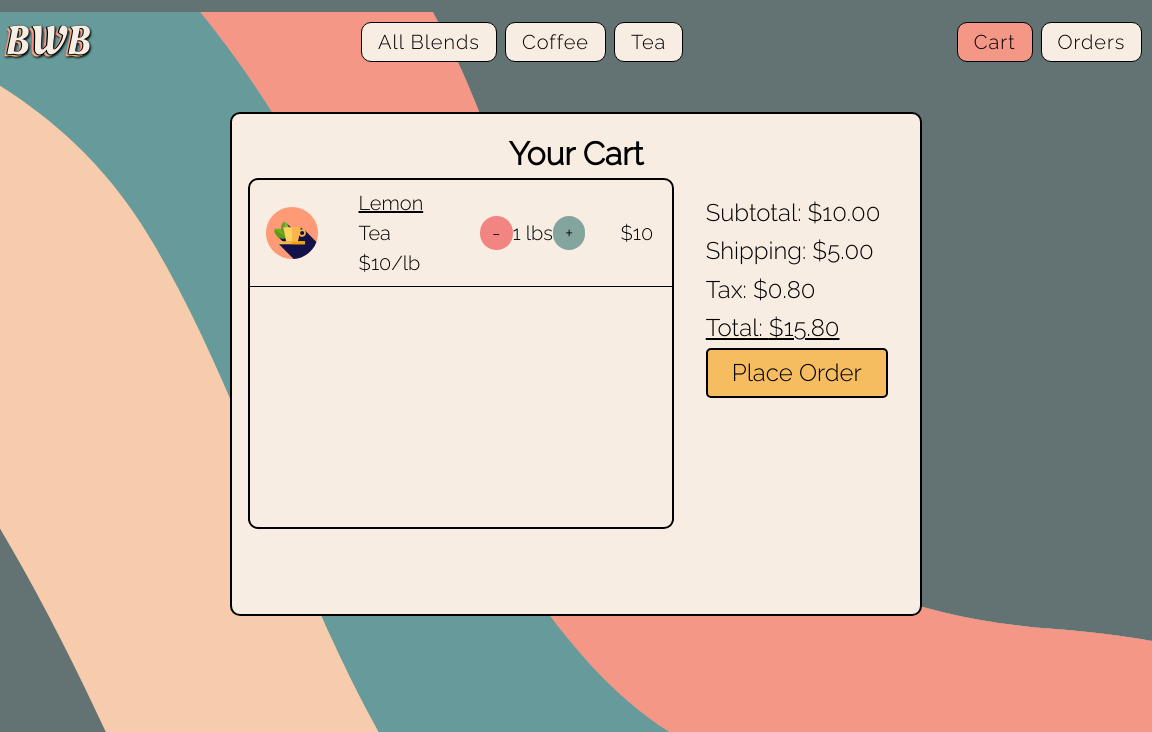
Test: Cart › should provide free shipping for orders over $20
This screenshot has width=1152, height=732.
Click the button with class "cart-counter--increase-btn" at (569, 233), box [553,216,585,249]
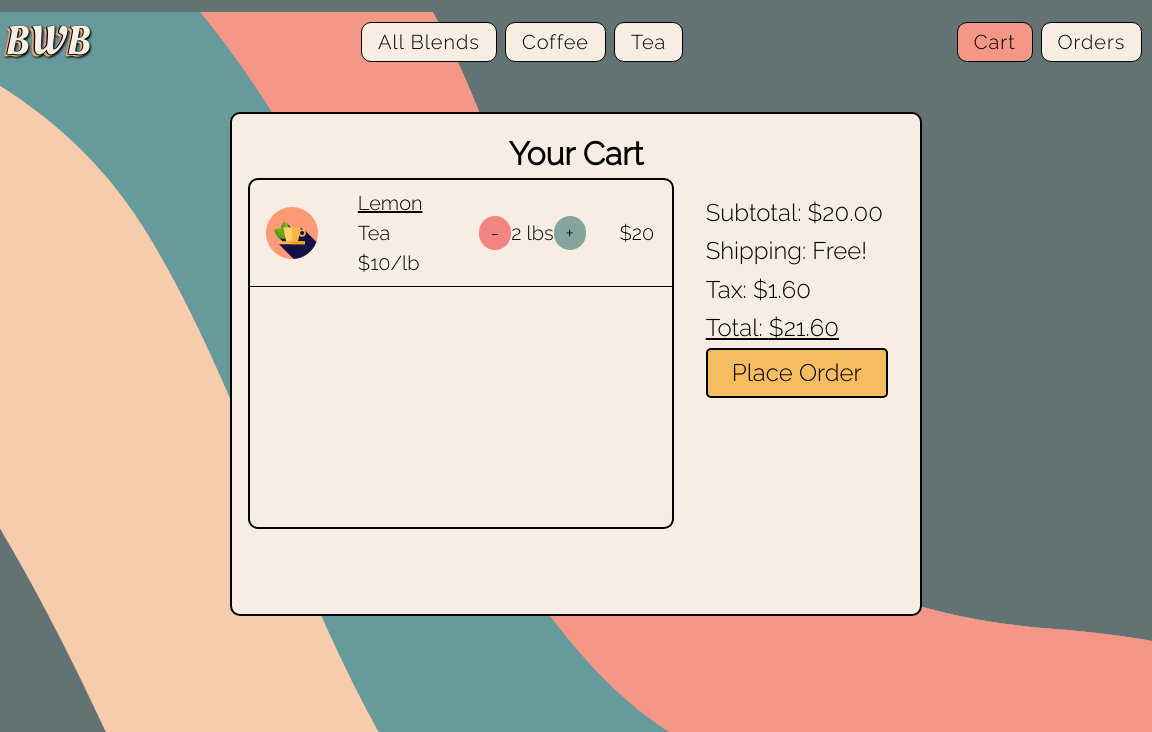
Expected: the text "Free!" is shown, [812,236,867,265]
